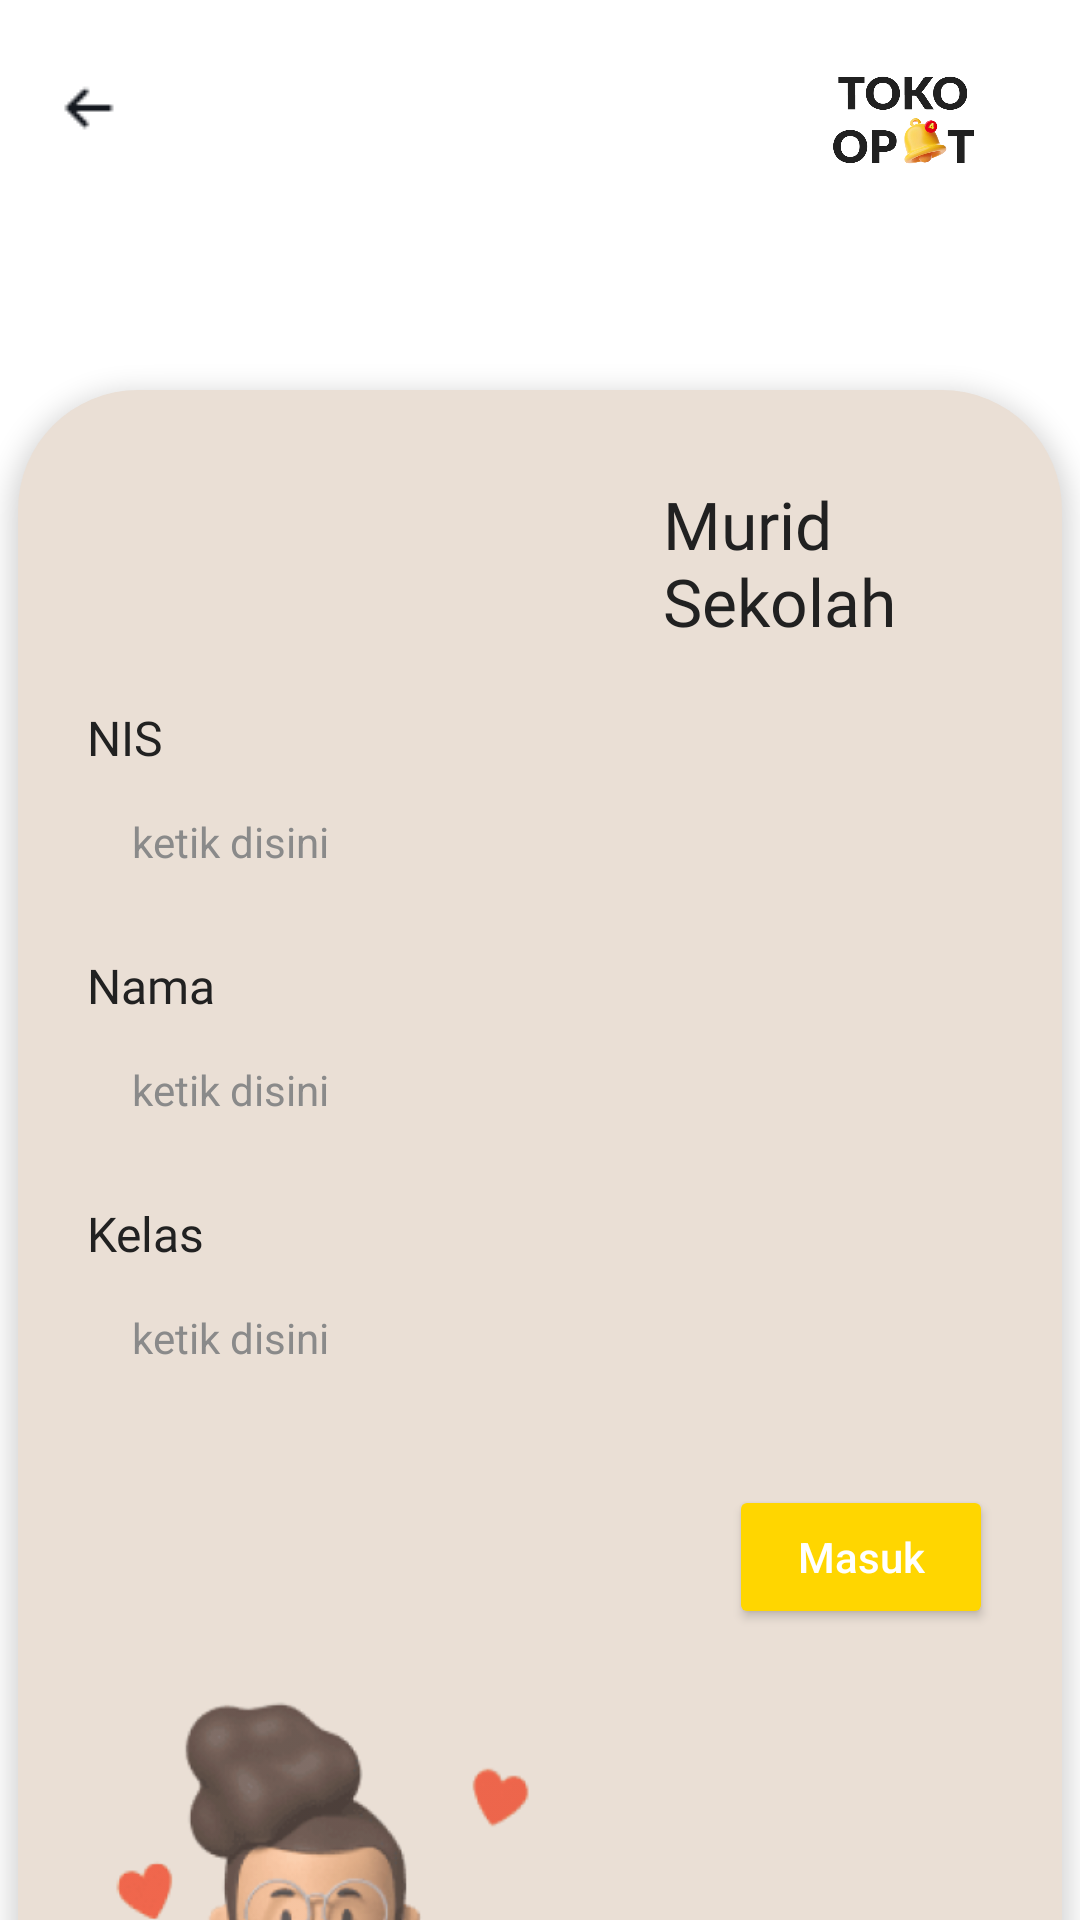

Icons on this 1080px x 1920px Android screen, each with the point to tap as point (x, y):
back: point (89, 108)
